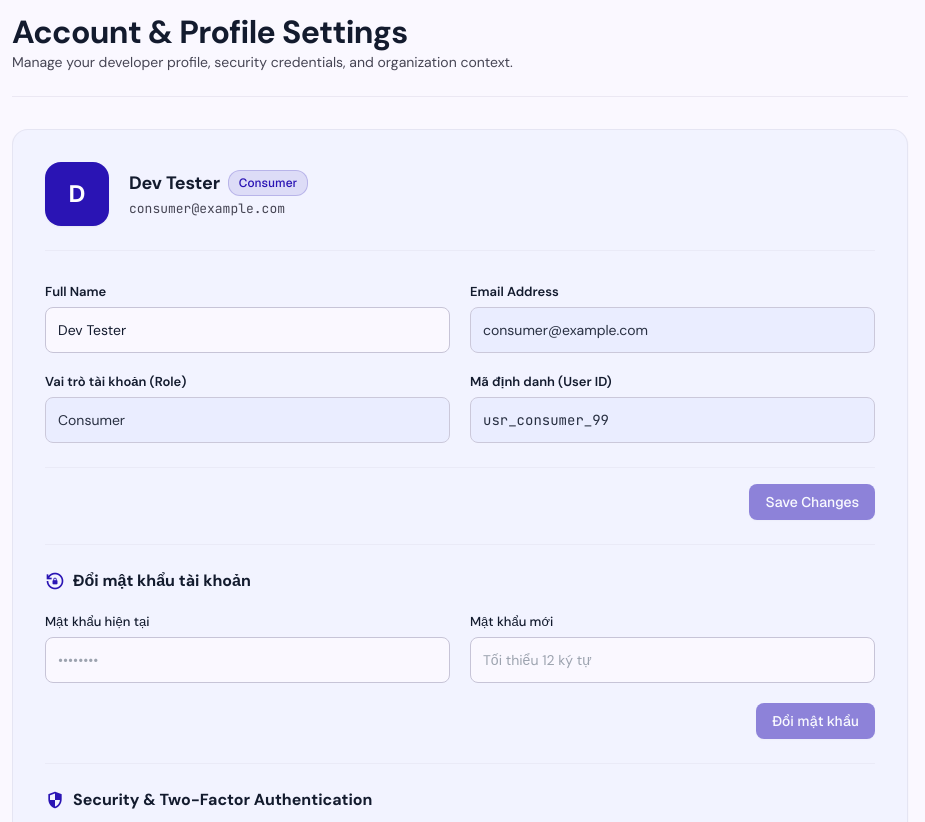
Test: Consumer Pages - Sprint 3 Real Backend Alignment & Honest States › ProfileSettingsPage › saves the display name through PATCH /api/auth/me and refreshes the user
Step 1. Replace the text in the field labelled "Full Name" with "Ten Moi" → (248, 330), box [45,307,450,353]
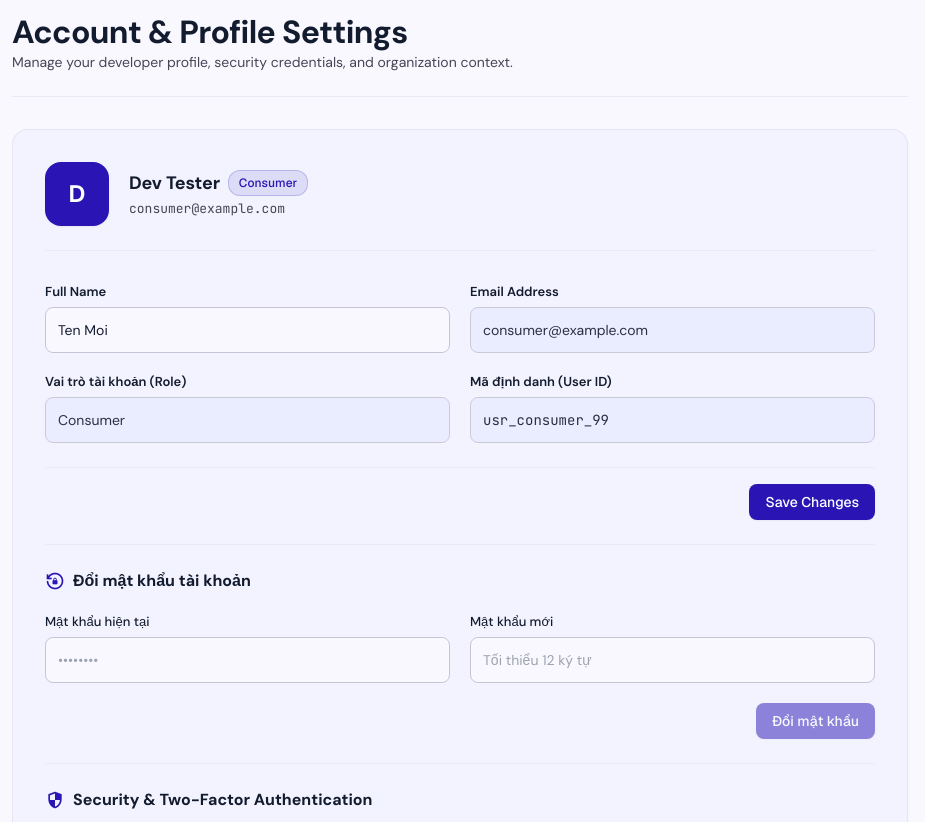
Step 2. Click the button "Save Changes" → (812, 502), box [749,484,875,520]
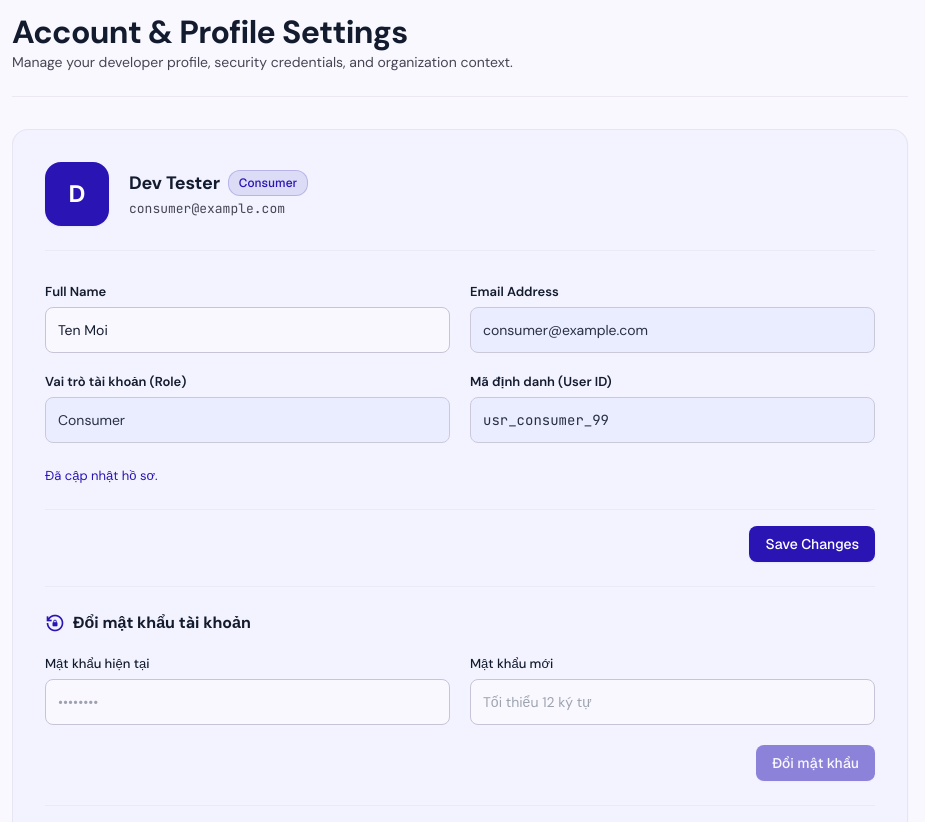
Check: the text "Đã cập nhật hồ sơ." is shown, box [45,467,158,484]
